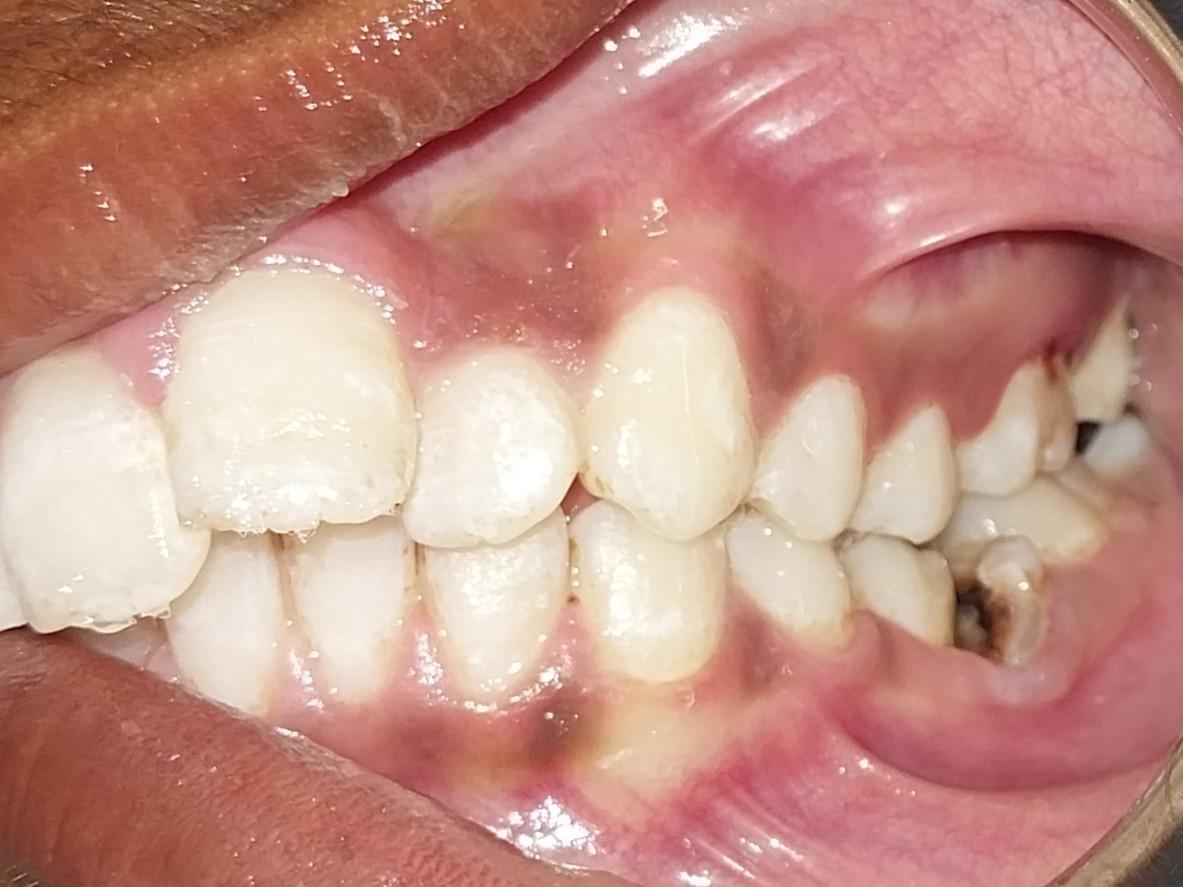D: (926, 522, 1058, 669)
